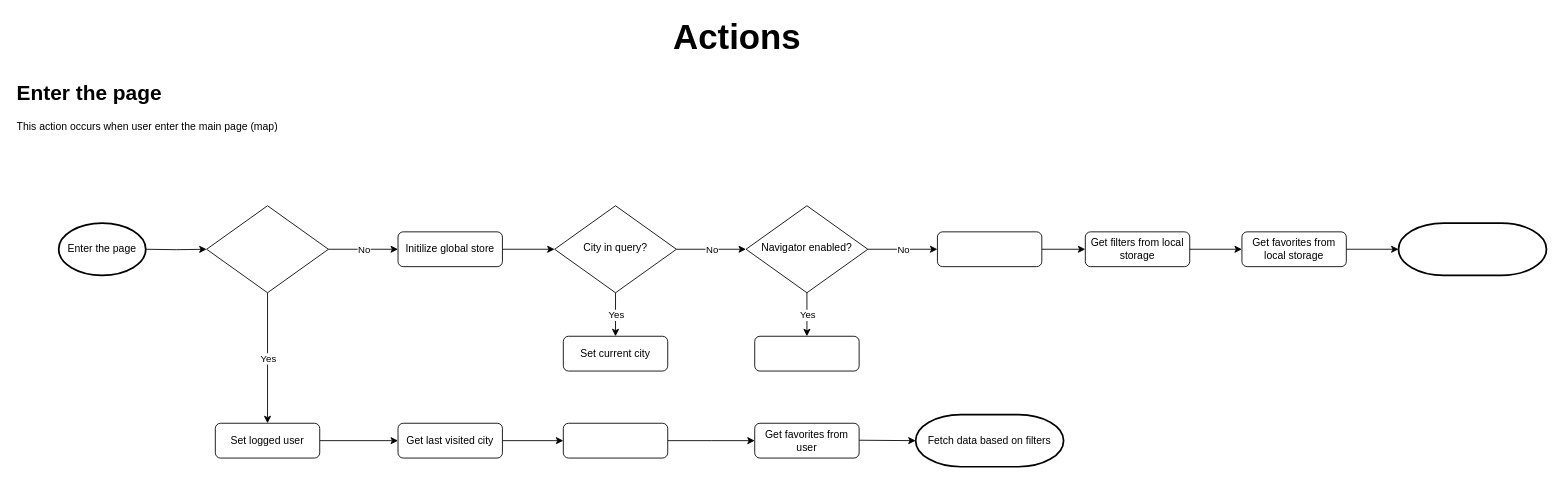
This 1562x482 diagram has some shape labels left out. The box of each missing label's shape, as (x1, y1, x2, y2) in pixels:
Fetch default data for city: (1397, 222, 1547, 276)
Get default city based on locale: (937, 231, 1042, 267)
Get filters from user: (562, 422, 668, 458)
Get nearest city or default city if fails: (754, 335, 859, 371)
User token exists?: (206, 205, 328, 293)
